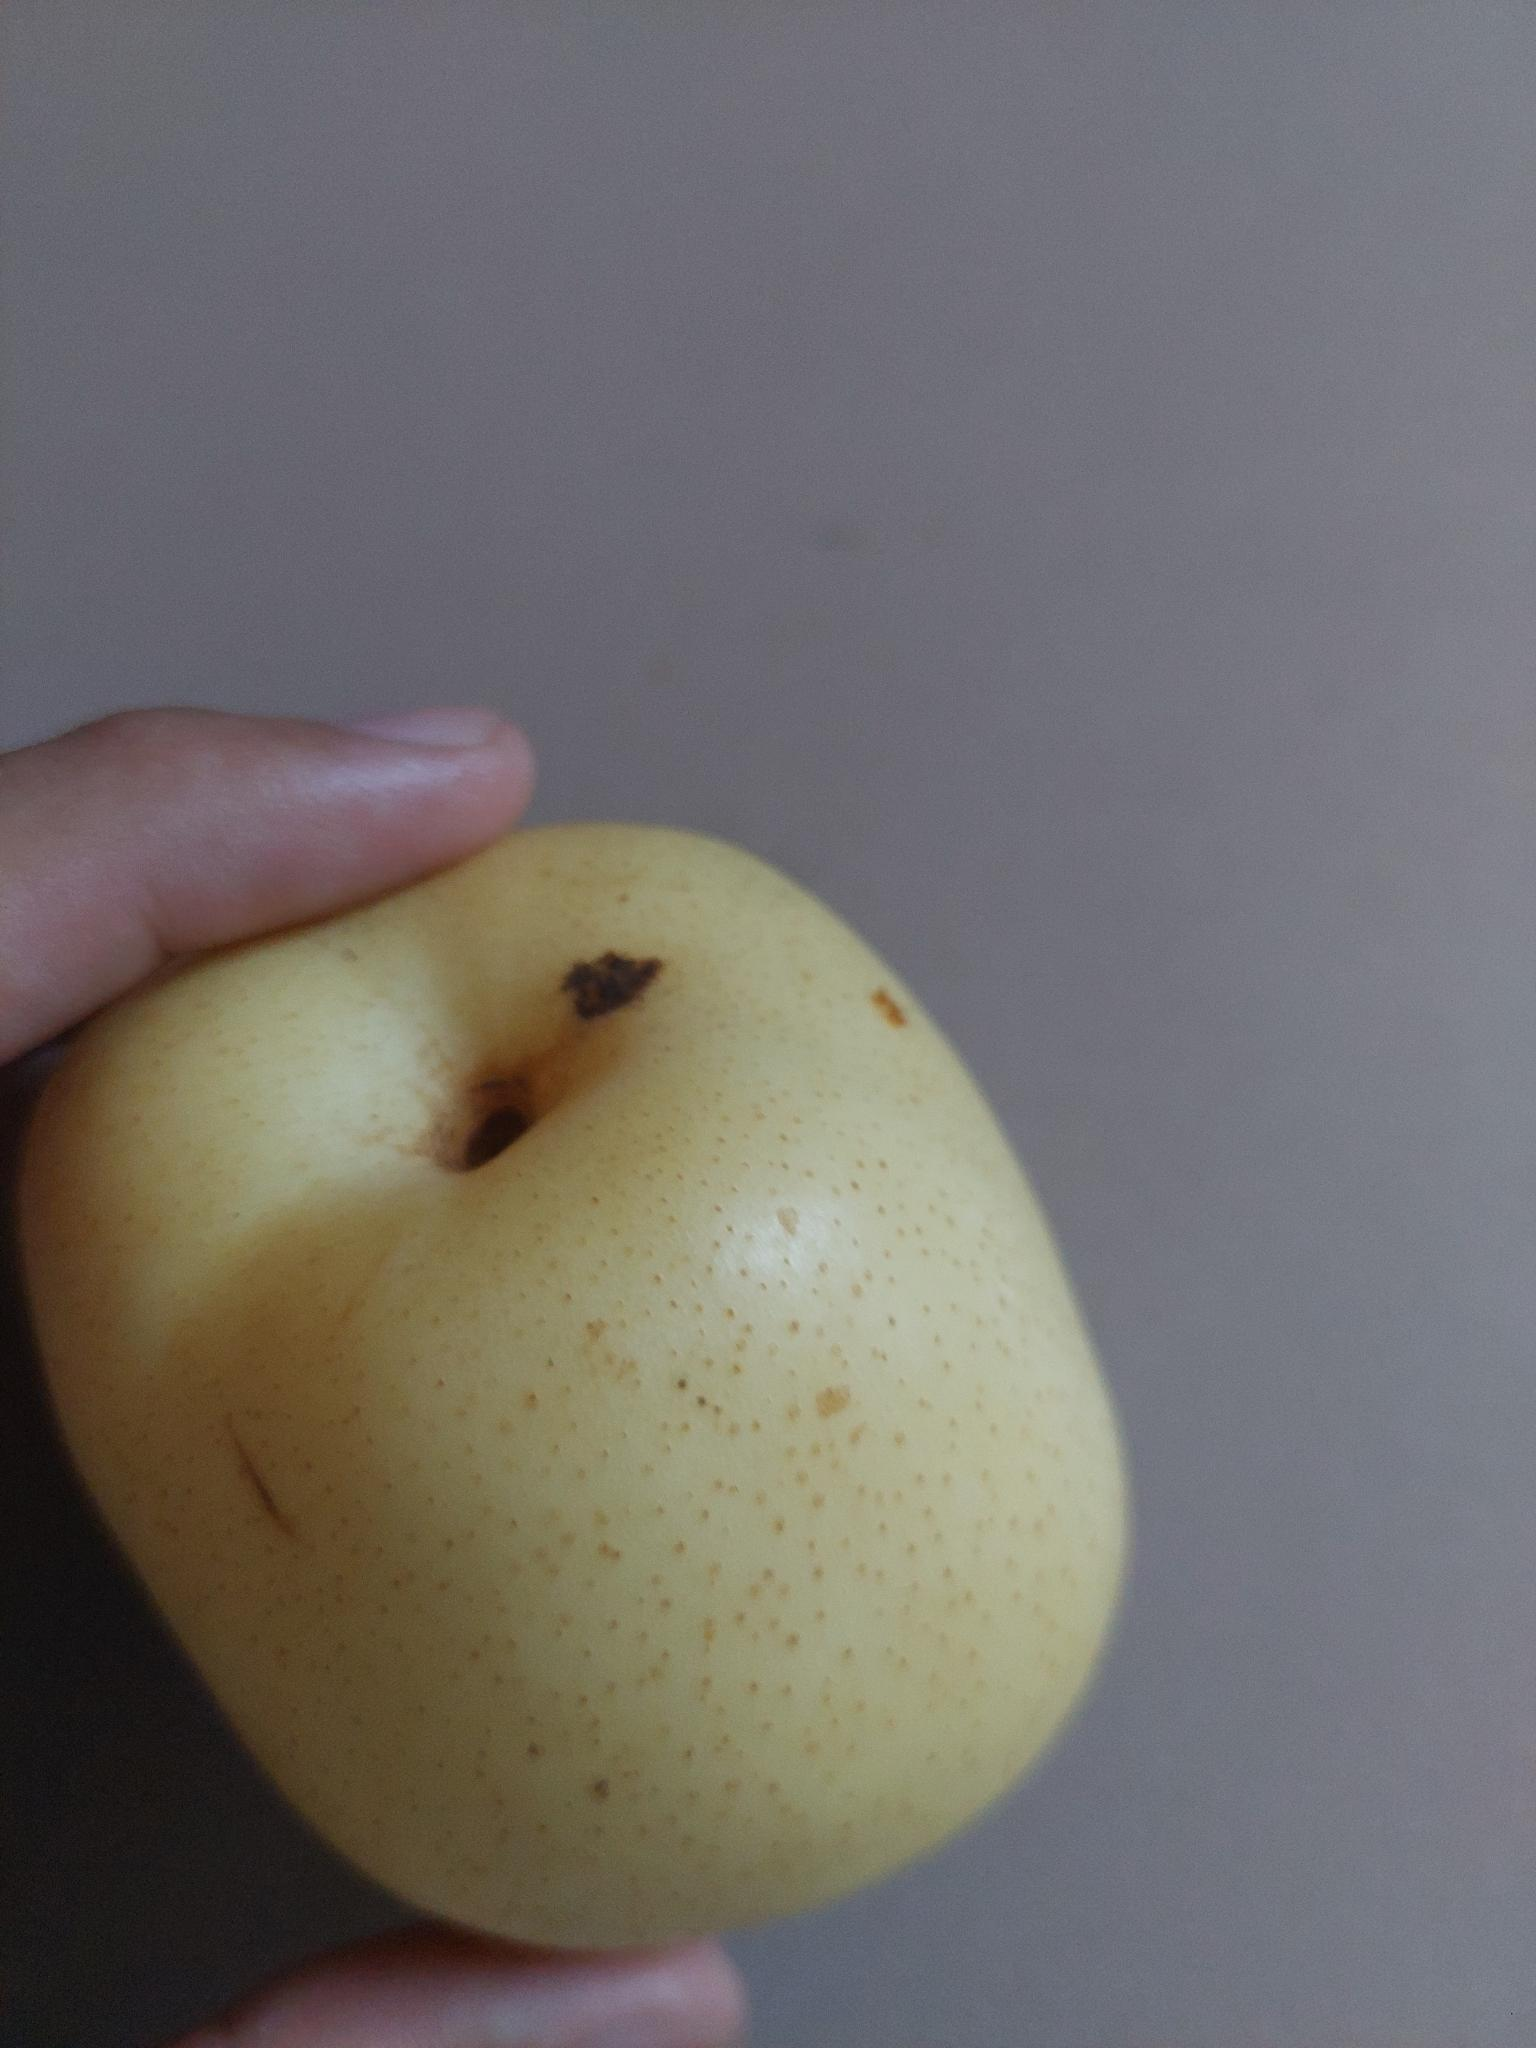Good Pear: (8, 830, 1147, 1953)
